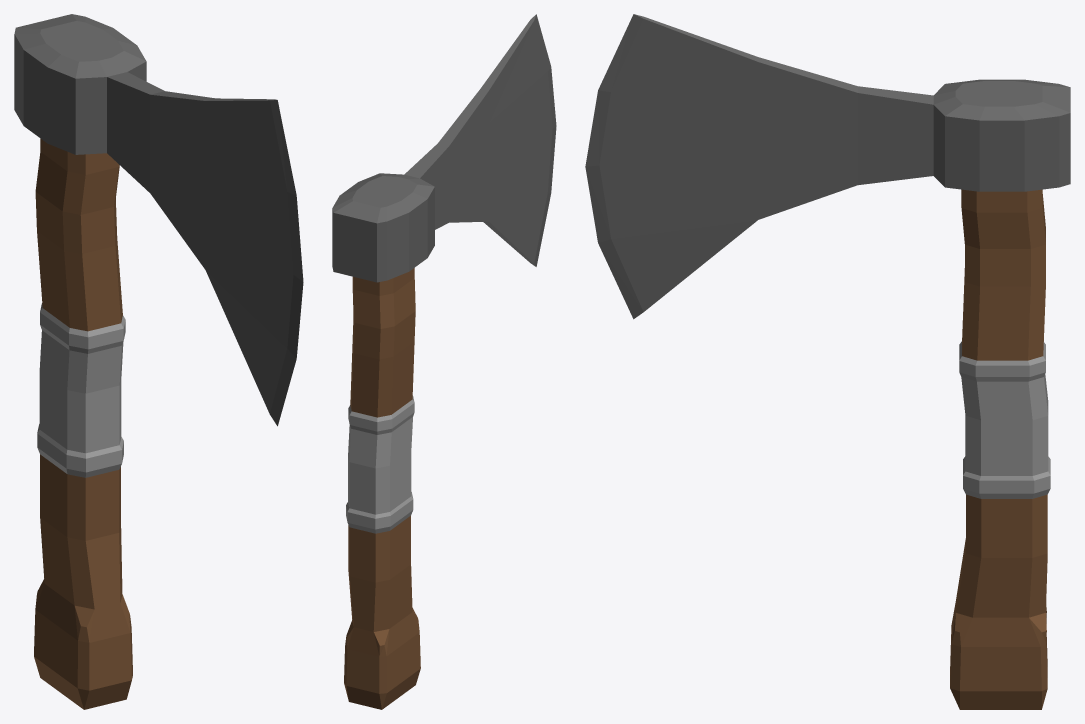
File: axe.dae
The picture shows the model from 3 angles, left to right: view 1: azimuth 30°, elevation 25°; view 2: azimuth 150°, elevation 25°; view 3: azimuth 270°, elevation 25°; orthographic projection. The views are drawn at different scales.
Parts seen in each view (by area): view 1: Cube; view 2: Cube; view 3: Cube.
Boxes of the visible parts, <box> form: Cube: <box>14,14,303,709</box>; Cube: <box>332,14,556,709</box>; Cube: <box>585,14,1070,709</box>.
Bounding box in the file's own units: 0.7851 × 3.94 × 6.13.
